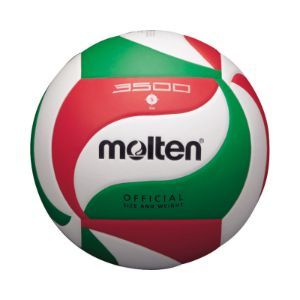voleibol: (30, 30, 270, 269)
